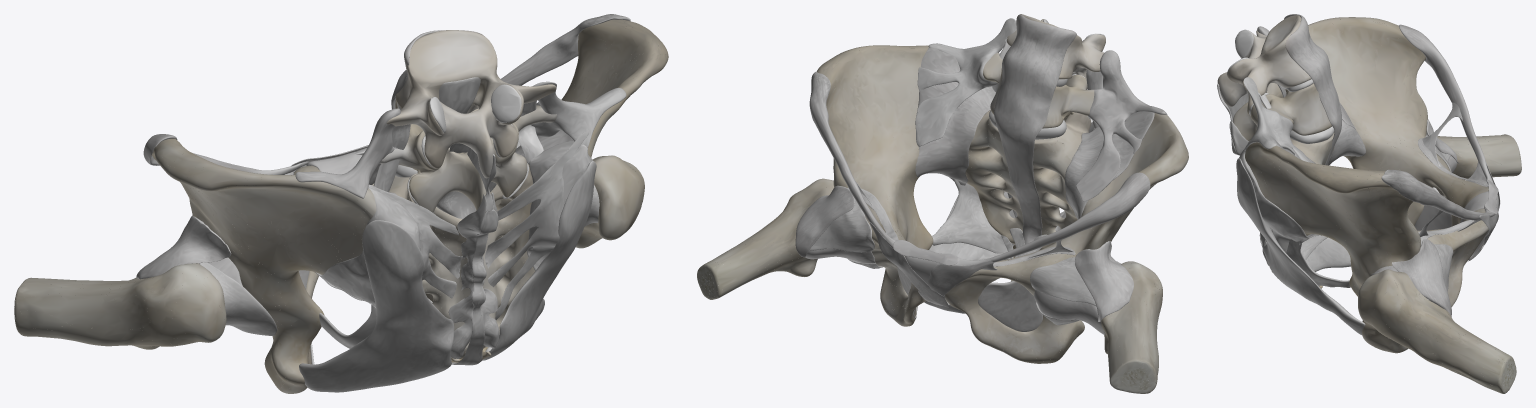
File: pelvis_ligaments.glb
3 views of the same model, side by side, from view 1: azimuth 30°, elevation 25°; view 2: azimuth 150°, elevation 25°; view 3: azimuth 270°, elevation 25° (orthographic). The views are drawn at different scales.
Parts seen in each view (by area): view 1: SubTool-50-13211096, SubTool-26-15492729, SubTool-49-2960184, SubTool-48-2960184, SubTool-34-2805384, SubTool-25-15492729, SubTool-32-2660999, SubTool-28-6577216, SubTool-33-2805384, SubTool-27-6577216, SubTool-13-13834654, SubTool-35-14747447 (+13 smaller); view 2: SubTool-50-13211096, SubTool-2-16011128, SubTool-4-1699582, SubTool-27-6577216, SubTool-28-6577216, SubTool-3-1699582, SubTool-1-12949775, SubTool-13-13834654, SubTool-23-7256352, SubTool-12-11092629, SubTool-48-2960184, SubTool-0-12949775 (+12 smaller); view 3: SubTool-50-13211096, SubTool-49-2960184, SubTool-25-15492729, SubTool-48-2960184, SubTool-2-16011128, SubTool-1-12949775, SubTool-15-13834654, SubTool-28-6577216, SubTool-0-12949775, SubTool-31-2660999, SubTool-26-15492729, SubTool-3-1699582 (+13 smaller).
Part boxes in pixels (left/top/right/bottom): SubTool-50-13211096: left=14, top=19, right=668, bottom=393; SubTool-26-15492729: left=299, top=220, right=454, bottom=392; SubTool-49-2960184: left=386, top=30, right=556, bottom=178; SubTool-48-2960184: left=379, top=99, right=556, bottom=212; SubTool-34-2805384: left=485, top=130, right=589, bottom=319; SubTool-25-15492729: left=428, top=161, right=596, bottom=360; SubTool-32-2660999: left=318, top=187, right=420, bottom=305; SubTool-28-6577216: left=531, top=81, right=626, bottom=147; SubTool-33-2805384: left=368, top=184, right=462, bottom=298; SubTool-27-6577216: left=295, top=108, right=400, bottom=198; SubTool-13-13834654: left=136, top=215, right=231, bottom=279; SubTool-35-14747447: left=448, top=194, right=486, bottom=358; SubTool-50-13211096: left=697, top=45, right=1188, bottom=393; SubTool-2-16011128: left=994, top=14, right=1076, bottom=257; SubTool-4-1699582: left=915, top=47, right=995, bottom=185; SubTool-27-6577216: left=1076, top=50, right=1167, bottom=201; SubTool-28-6577216: left=915, top=18, right=1016, bottom=146; SubTool-3-1699582: left=1065, top=111, right=1154, bottom=219; SubTool-1-12949775: left=939, top=172, right=1150, bottom=265; SubTool-13-13834654: left=1075, top=241, right=1133, bottom=321; SubTool-23-7256352: left=932, top=179, right=1014, bottom=253; SubTool-12-11092629: left=978, top=281, right=1042, bottom=331; SubTool-48-2960184: left=983, top=52, right=1094, bottom=128; SubTool-0-12949775: left=809, top=72, right=899, bottom=249; SubTool-50-13211096: left=1245, top=17, right=1521, bottom=393; SubTool-49-2960184: left=1217, top=15, right=1311, bottom=115; SubTool-25-15492729: left=1236, top=158, right=1365, bottom=334; SubTool-48-2960184: left=1232, top=83, right=1331, bottom=145; SubTool-2-16011128: left=1284, top=14, right=1341, bottom=286; SubTool-1-12949775: left=1399, top=24, right=1493, bottom=184; SubTool-15-13834654: left=1392, top=239, right=1451, bottom=316; SubTool-28-6577216: left=1243, top=77, right=1311, bottom=162; SubTool-0-12949775: left=1381, top=169, right=1495, bottom=220; SubTool-31-2660999: left=1239, top=149, right=1308, bottom=252; SubTool-26-15492729: left=1306, top=237, right=1350, bottom=271; SubTool-3-1699582: left=1328, top=120, right=1365, bottom=165.
Size of the model in its own units: 0.8787 by 0.5297 by 0.5033.
